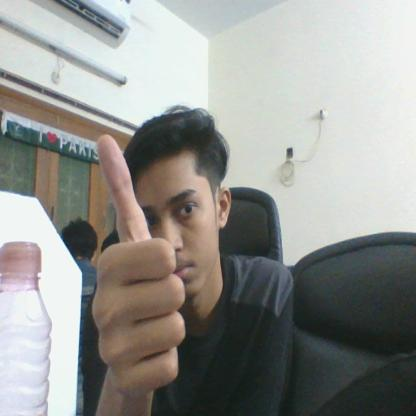thumbs-up: (83, 130, 190, 389)
